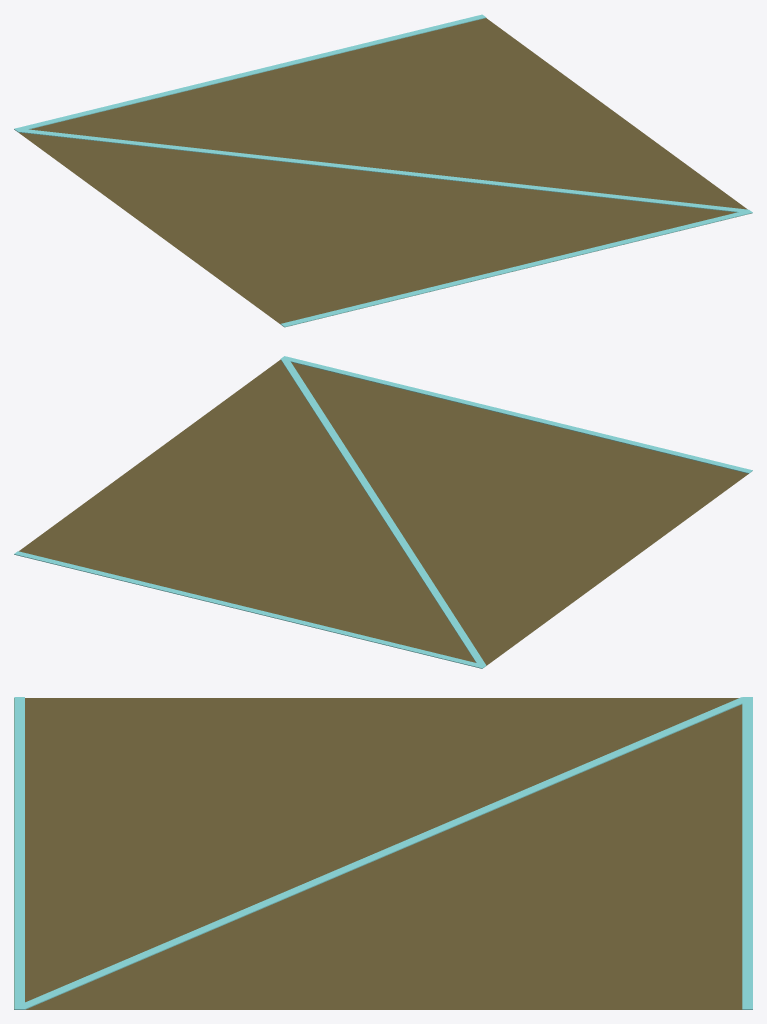
File: Mirror Maze Floor.fbx
The picture shows the model from 3 angles, top to bottom: view 1: azimuth 30°, elevation 25°; view 2: azimuth 150°, elevation 25°; view 3: azimuth 270°, elevation 25°; orthographic projection. The views are drawn at different scales.
Visible parts, largest first — view 1: pPlane1, pPlane5; view 2: pPlane1, pPlane5; view 3: pPlane1, pPlane5.
Part boxes in pixels (x1=…): pPlane1: x1=18, y1=18, x2=751, y2=325; pPlane5: x1=14, y1=14, x2=752, y2=327; pPlane1: x1=19, y1=359, x2=748, y2=665; pPlane5: x1=14, y1=356, x2=752, y2=668; pPlane1: x1=14, y1=698, x2=742, y2=1009; pPlane5: x1=14, y1=697, x2=752, y2=1009.
Bounding box in the file's own units: 2.92 × 0.00392 × 2.92.
